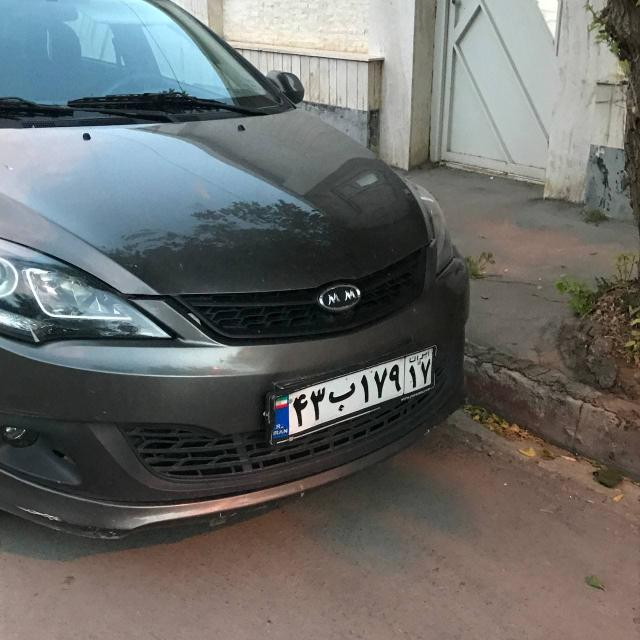Plates: (260, 341, 444, 441)
